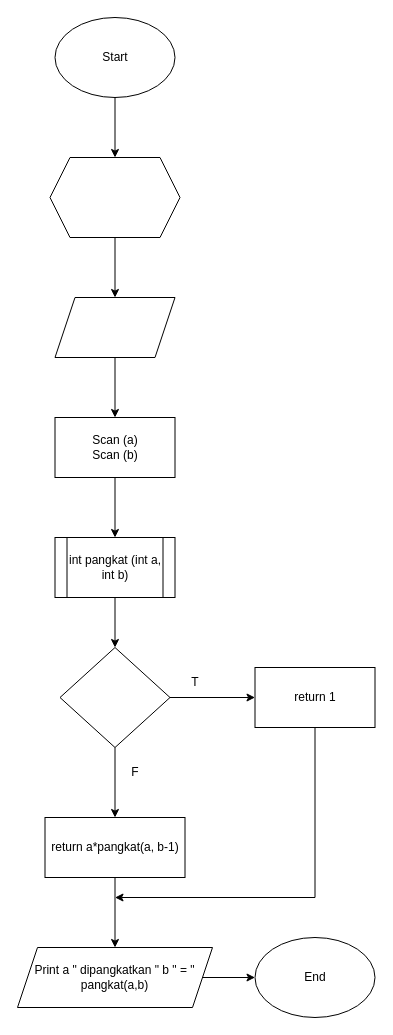
This 393x1035 diagram has some shape labels left out. Here are the shapes that lost their labels. From the top down, the box of each, then its label:
(49, 156, 180, 238): Int pangkat(int a, int b)
(54, 296, 175, 358): Int a, b
(59, 646, 170, 748): b==0?
